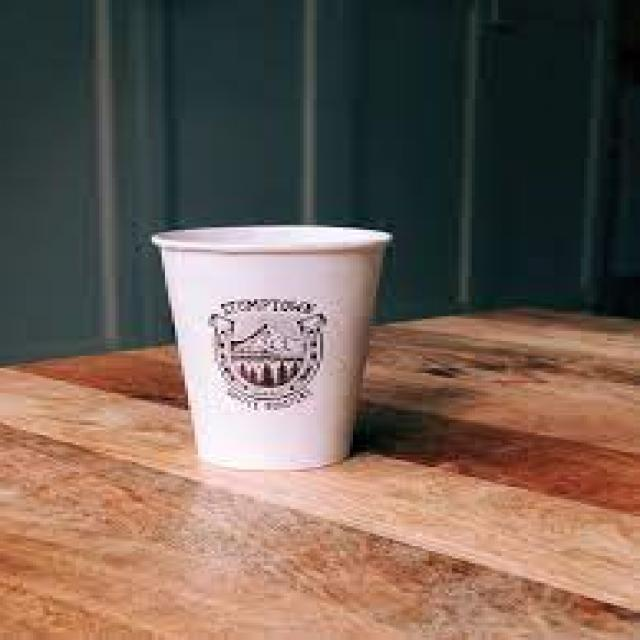trash: (152, 224, 392, 472)
